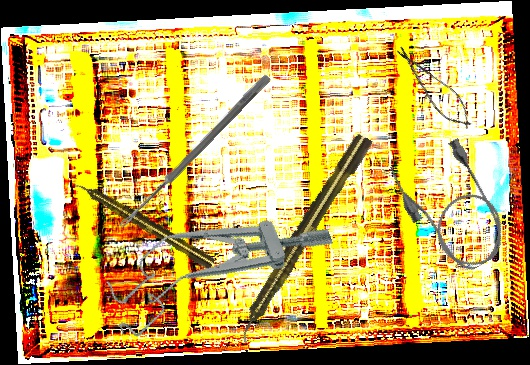Cannula: (383, 130, 519, 285)
Handpiece: (229, 130, 376, 346), (72, 176, 217, 272)
Micro Scissor: (388, 40, 480, 136)
Speculum: (95, 181, 340, 342)
Surgical Spoon: (117, 72, 272, 232)
